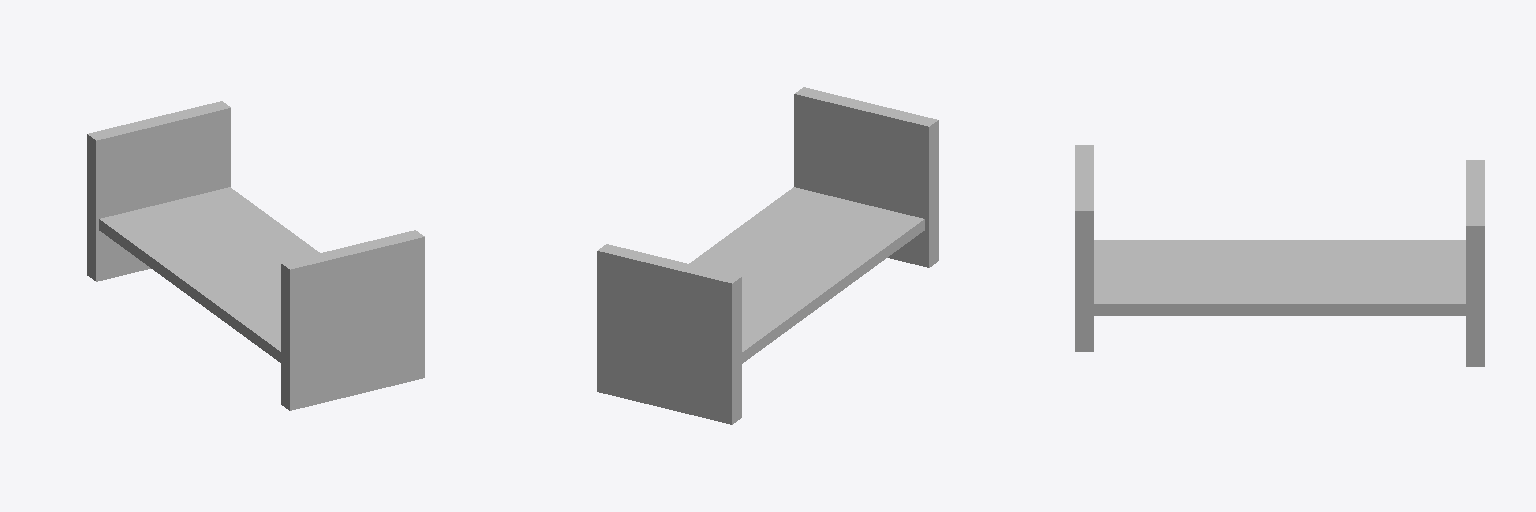
The model's file is bed.obj.
3 renders of one model, left to right at view 1: azimuth 30°, elevation 25°; view 2: azimuth 150°, elevation 25°; view 3: azimuth 270°, elevation 25°, orthographic.
Parts seen in each view (by area): view 1: Cube.001_Cube.002, Cube_Cube.001, Cube.002_Cube.003; view 2: Cube.002_Cube.003, Cube_Cube.001, Cube.001_Cube.002; view 3: Cube_Cube.001, Cube.002_Cube.003, Cube.001_Cube.002.
Boxes of the visible parts, <box> form: Cube.001_Cube.002: <box>281,230,424,410</box>; Cube_Cube.001: <box>99,187,319,362</box>; Cube.002_Cube.003: <box>87,101,230,281</box>; Cube.002_Cube.003: <box>597,244,741,424</box>; Cube_Cube.001: <box>689,187,924,363</box>; Cube.001_Cube.002: <box>794,87,938,267</box>; Cube_Cube.001: <box>1082,240,1465,315</box>; Cube.002_Cube.003: <box>1466,160,1484,366</box>; Cube.001_Cube.002: <box>1075,145,1093,351</box>.
Bounding box in the file's own units: 2.02 × 2.2 × 5.25.